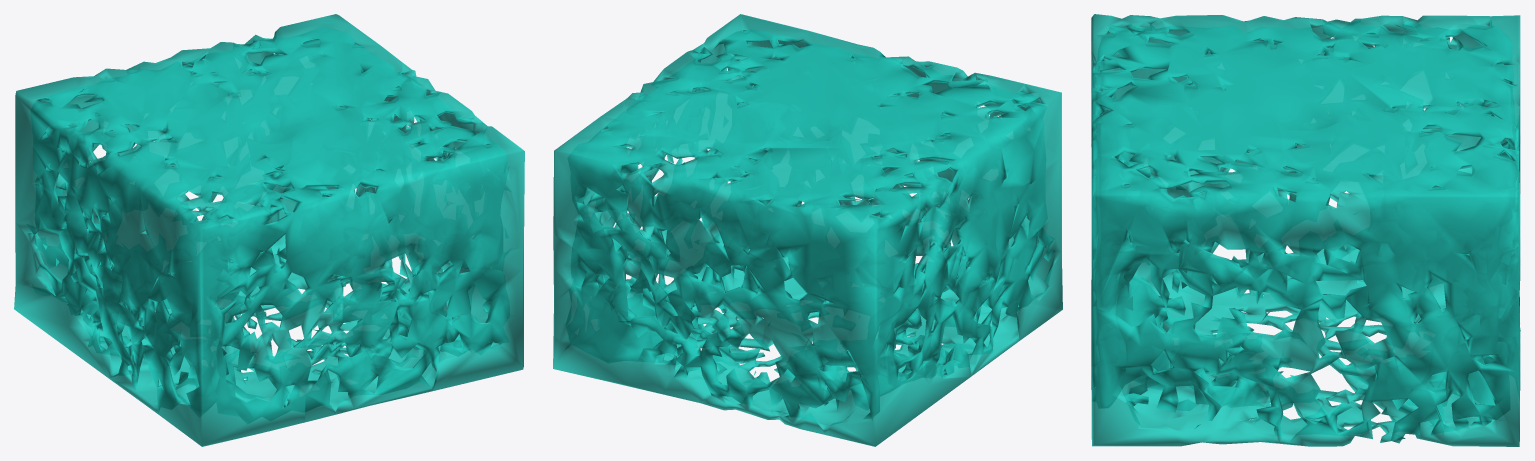
3 renders of one model, left to right at view 1: azimuth 30°, elevation 25°; view 2: azimuth 150°, elevation 25°; view 3: azimuth 270°, elevation 25°, orthographic. The views are drawn at different scales.
Visible parts, largest first — view 1: Liquid_Domain; view 2: Liquid_Domain; view 3: Liquid_Domain.
Part boxes in pixels (<box>): Liquid_Domain: <box>14,14,524,446</box>; Liquid_Domain: <box>553,14,1062,446</box>; Liquid_Domain: <box>1091,14,1520,446</box>.
Bounding box in the file's own units: 391 × 254 × 391.
